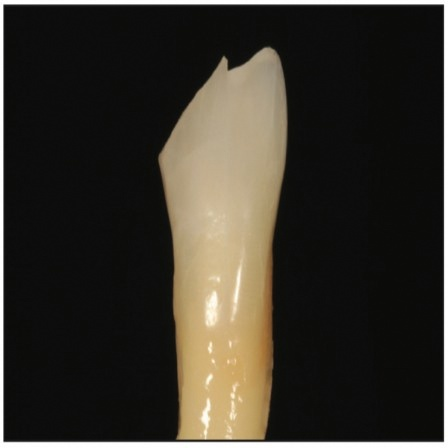coin_1: (175, 271, 195, 291)
coin_2: (156, 160, 176, 180)
coin_3: (274, 233, 294, 253)
coin_4: (289, 158, 309, 178)
